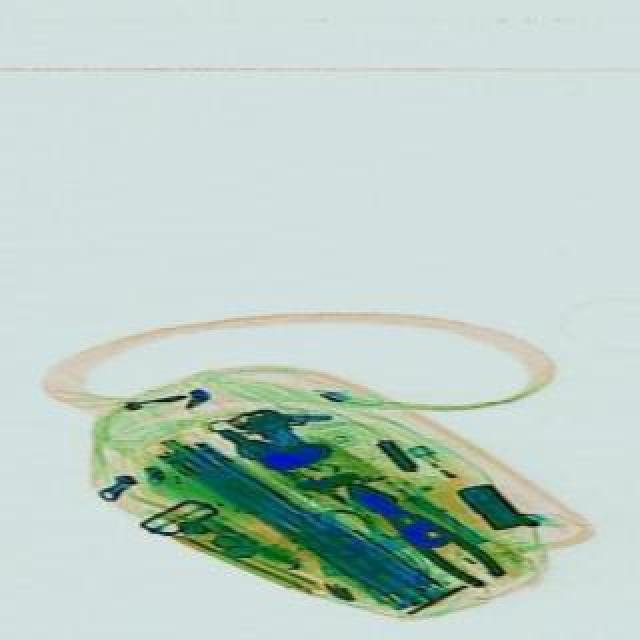wrench: (334, 466, 506, 596)
